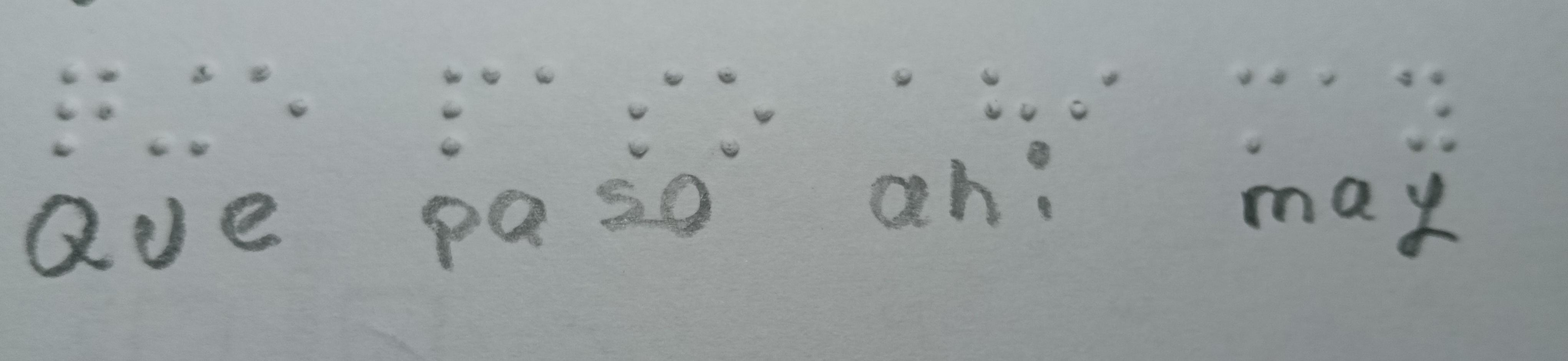a: (519, 52, 573, 102), (1303, 52, 1351, 107), (886, 50, 926, 107)
e: (238, 58, 323, 140)
h: (972, 52, 1045, 144)
i: (1051, 52, 1138, 132)
m: (1220, 56, 1303, 155)
o: (711, 63, 788, 171)
p: (415, 54, 517, 173)
q: (52, 48, 123, 173)
s: (607, 46, 698, 171)
u: (146, 59, 225, 169)
y: (1378, 63, 1478, 165)
